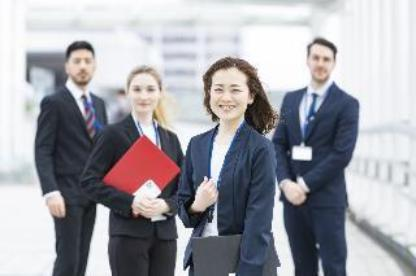person: (174, 52, 283, 276), (270, 33, 362, 276), (79, 61, 180, 276), (33, 36, 114, 276)
